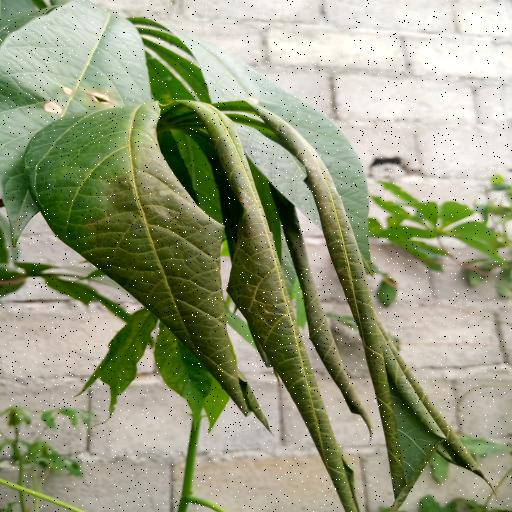Cassava_Root_Rot: (34, 92, 478, 495)
